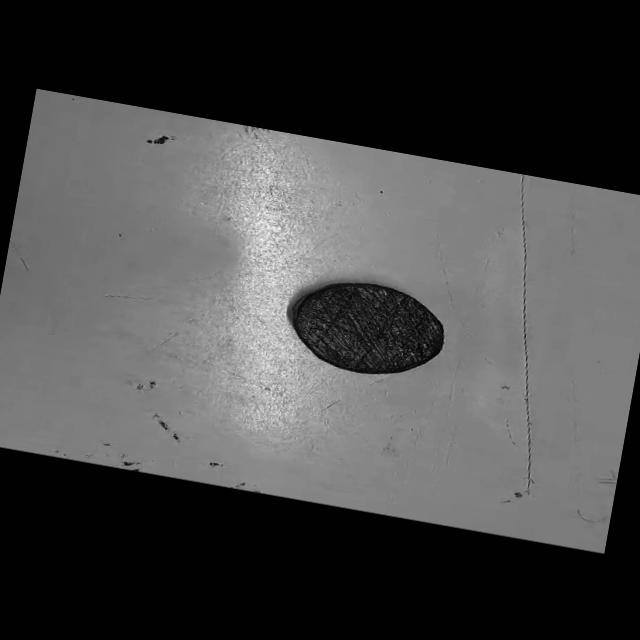bcircle: (280, 269, 453, 386)
